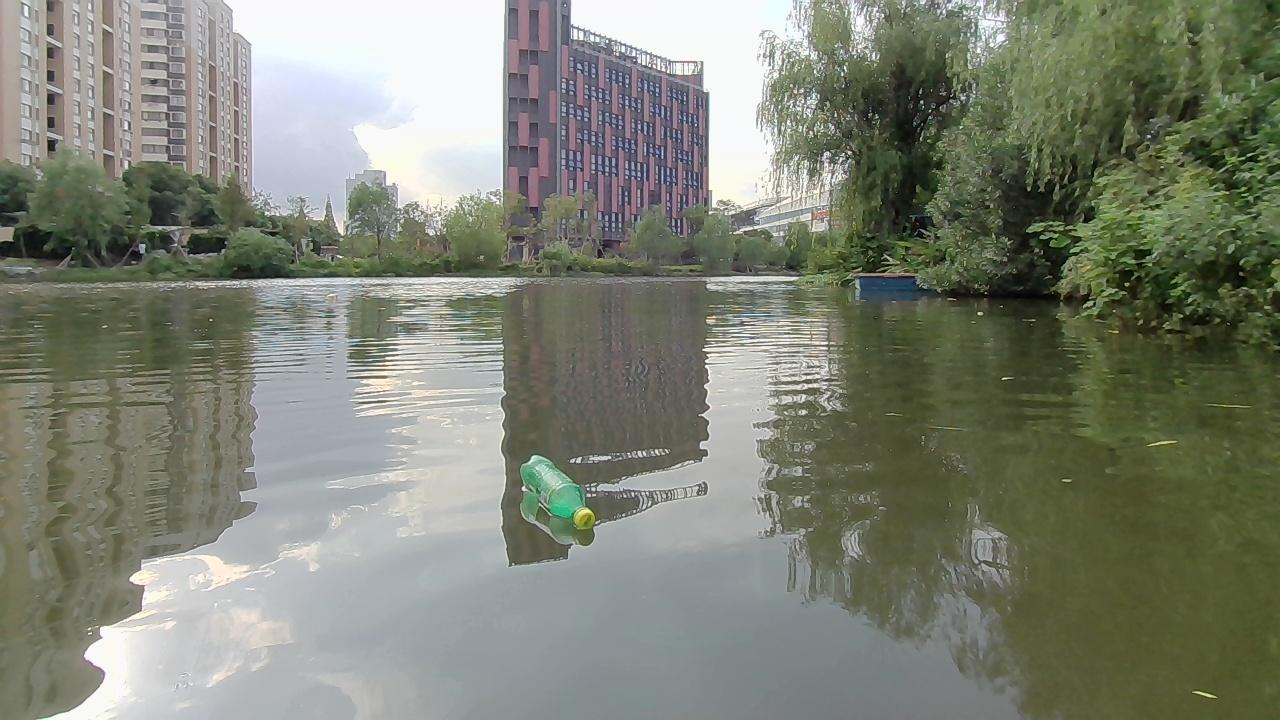bottle: (517, 451, 601, 532), (324, 291, 336, 299)
